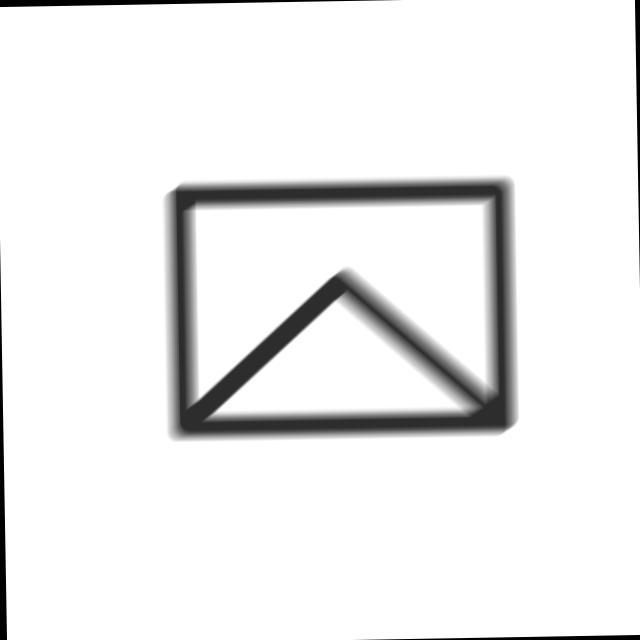letter: (162, 171, 526, 446)
